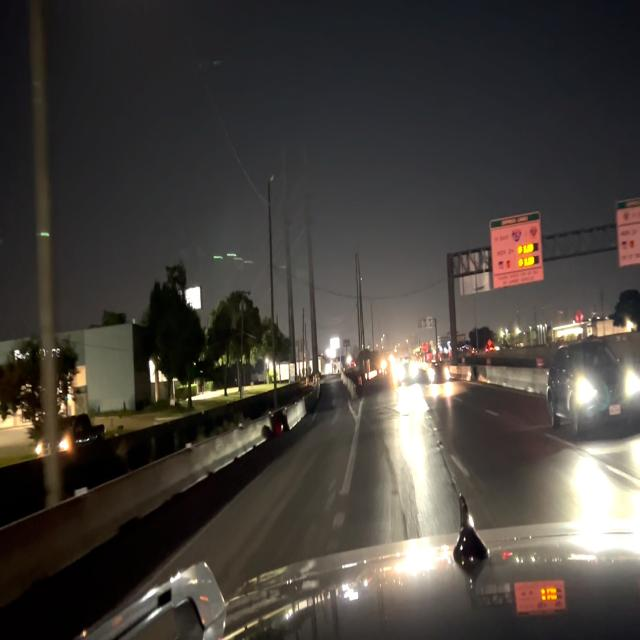back-of-sign: (451, 245, 493, 301), (416, 313, 435, 332)
